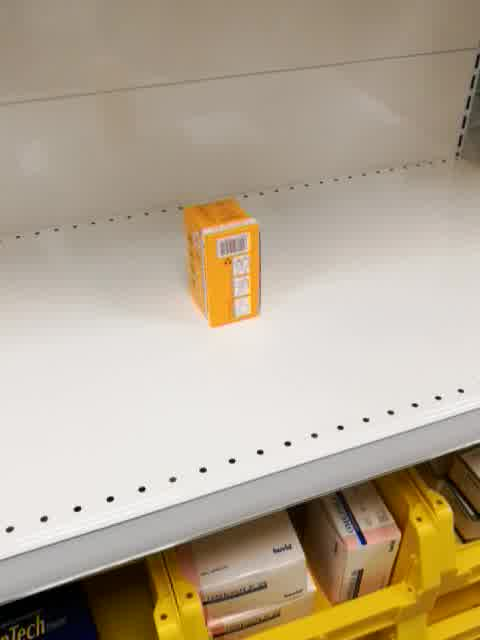jasminetea: (182, 198, 263, 330)
